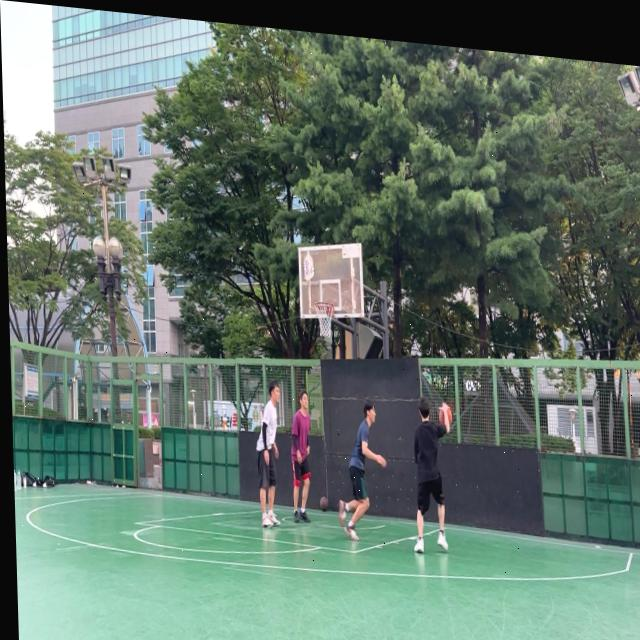basketball: (438, 407, 453, 428)
hoop: (314, 301, 335, 339)
